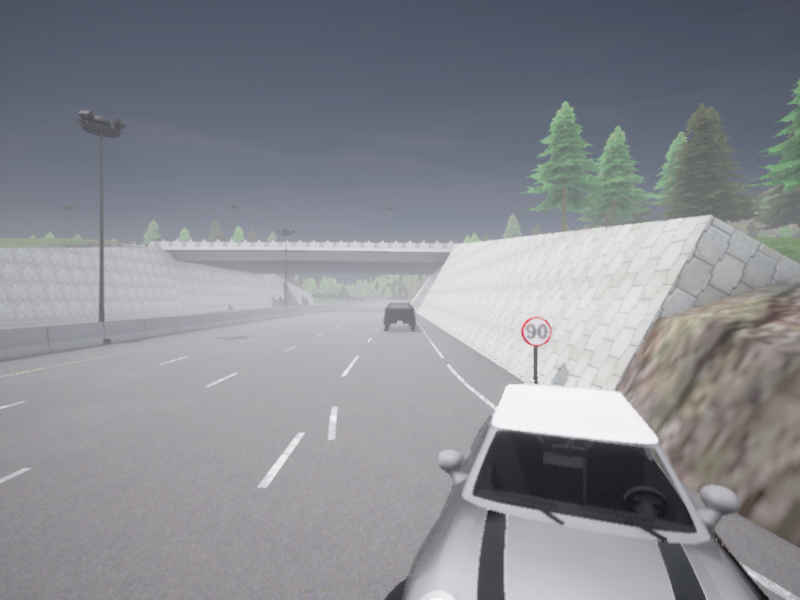vehicle: (384, 384, 769, 599), (383, 302, 415, 330)
